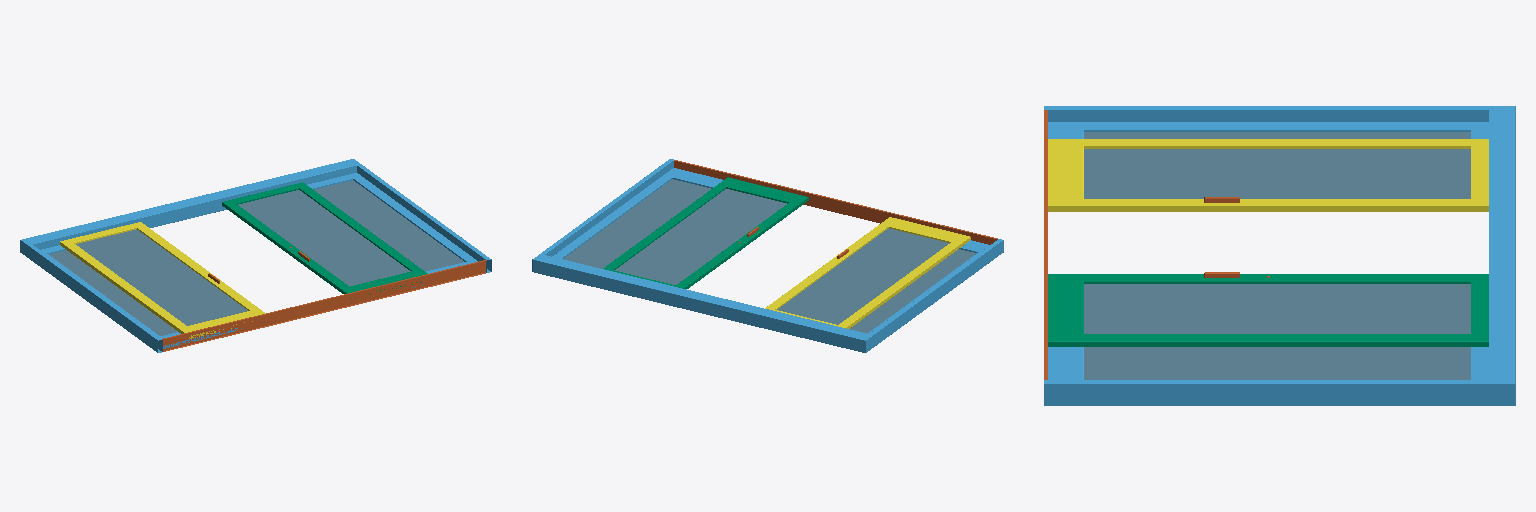
robot.urdf — 756:
<robot name="756">


	<link name="0:virtual">
		<visual>
			<origin xyz="0.0 0.0 0.0" rpy="0 0 0"/>
			<geometry>
				<cylinder length="0" radius="0"/>
			</geometry>
		</visual>
	</link>


	<link name="1:static">
		<visual>
			<origin xyz="-0.0 -0.0 -0.0" rpy="0 0 0"/>
			<geometry>
				<mesh filename="../raw_data/756/part_meshes/1.dae" />
			</geometry>
		</visual>
	</link>


	<link name="2:door 1">
		<visual>
			<origin xyz="-0.7500000298023224 -1.2599999997764826 -0.012499945238232613" rpy="0 0 0"/>
			<geometry>
				<mesh filename="../raw_data/756/part_meshes/2.dae" />
			</geometry>
		</visual>
	</link>


	<link name="3:door 2">
		<visual>
			<origin xyz="1.050000011920929 -1.2599999997764826 -0.012499945238232613" rpy="0 0 0"/>
			<geometry>
				<mesh filename="../raw_data/756/part_meshes/3.dae" />
			</geometry>
		</visual>
	</link>


	<joint name="0:virtual::1:static" type="fixed">
		<parent link="0:virtual"/>
		<child link="1:static"/>
		<origin xyz="0.0 0.0 0.0" rpy="0 0 0"/>
	</joint>


	<joint name="0:virtual::2:door 1_translation" type="prismatic">
		<parent link="0:virtual"/>
		<child link="2:door 1"/>
		<origin xyz="0.7500000298023224 1.2599999997764826 0.012499945238232613" rpy="0 0 0"/>
		<limit lower="-0.211000071525574" upper="0.454999928474426" effort="10" velocity="3"/>
		<axis xyz="1.0 0.0 0.0"/>
	</joint>


	<joint name="0:virtual::3:door 2_translation" type="prismatic">
		<parent link="0:virtual"/>
		<child link="3:door 2"/>
		<origin xyz="-1.050000011920929 1.2599999997764826 0.012499945238232613" rpy="0 0 0"/>
		<limit lower="-0.211000071525574" upper="0.454999928474426" effort="10" velocity="3"/>
		<axis xyz="1.0 0.0 0.0"/>
	</joint>


</robot>

--- What the picture shows (computed from the rendered views, not written in the file) ---
The picture shows the robot from 3 angles, left to right: view 1: azimuth 30°, elevation 25°; view 2: azimuth 150°, elevation 25°; view 3: azimuth 270°, elevation 25°; orthographic projection.
Model 756 with 4 links and 3 joints (2 prismatic, 1 fixed), rooted at 0:virtual, posed all joints at 0.
Links seen in each view (by area): view 1: 1:static, 3:door 2, 2:door 1; view 2: 1:static, 2:door 1, 3:door 2; view 3: 1:static, 2:door 1, 3:door 2.
Link boxes in pixels (box(x1,y1,x2,y2)): 1:static: box(20, 159, 491, 352); 3:door 2: box(60, 222, 265, 338); 2:door 1: box(222, 182, 427, 298); 1:static: box(532, 159, 1003, 352); 2:door 1: box(603, 177, 808, 288); 3:door 2: box(765, 217, 970, 328); 1:static: box(1044, 106, 1515, 405); 2:door 1: box(1048, 272, 1488, 346); 3:door 2: box(1048, 139, 1488, 211).
Bounding box of the posed robot: 3.7 × 2.65 × 0.135 m (x, y, z).
Meshes: 3 distinct files referenced, 3 mesh visuals loaded (3 Collada DAE).